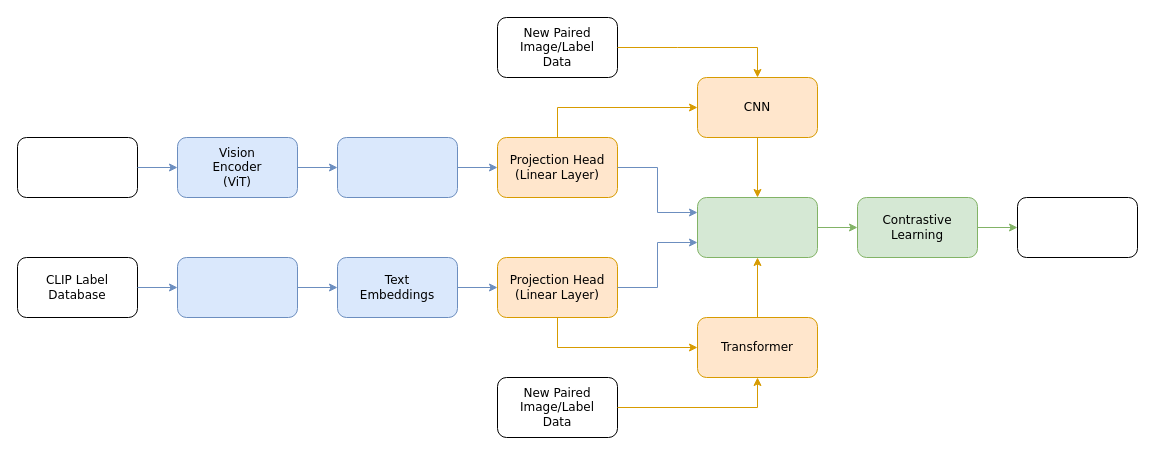
This 1155x455 diagram has some shape labels left out. The shapes that lost their labels are listed below. From the top down, each one's centre as x and y in pixels, then its label:
At (77,167): "CLIP Image Database".
At (397,167): "Image Embeddings".
At (757,227): "Embedding Space".
At (1077,227): "Output Label".
At (237,287): "Text Encoder (Transformer)".
